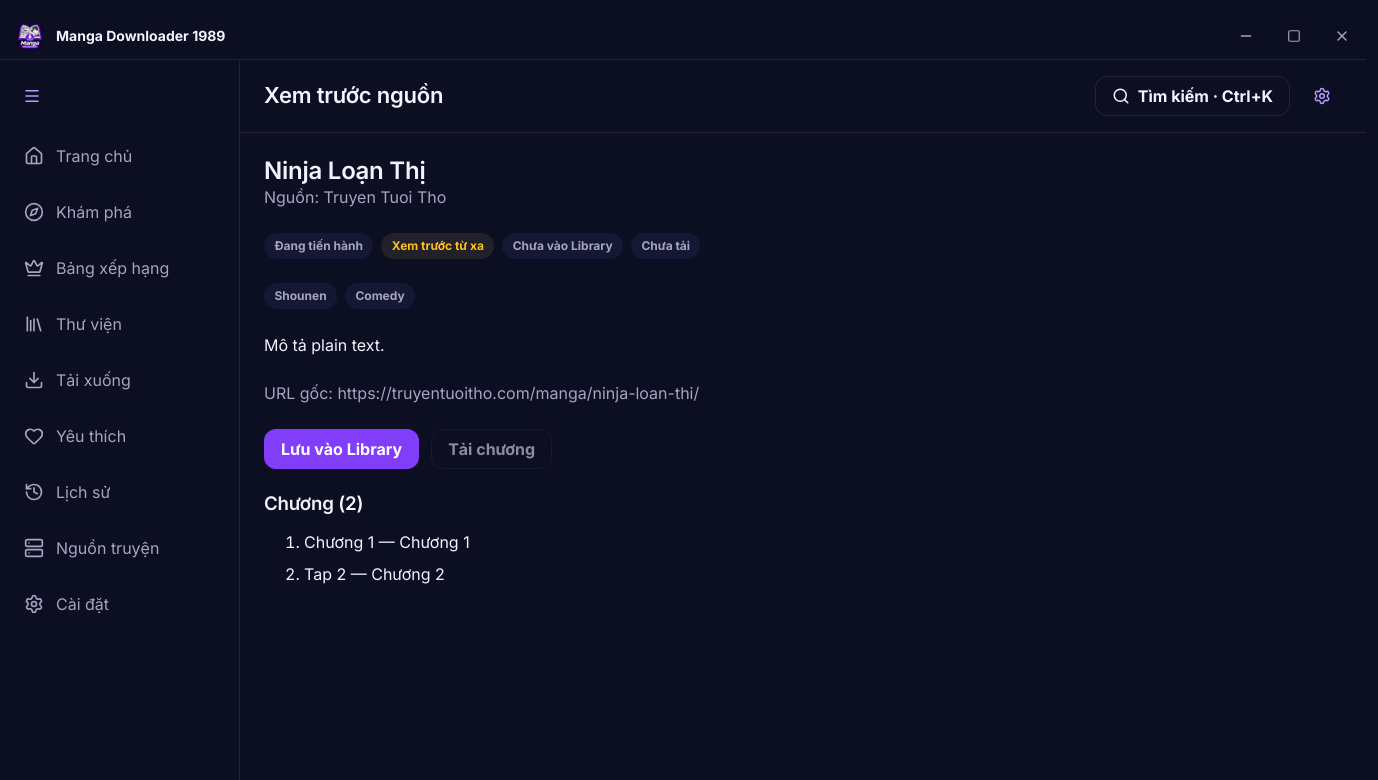
Scenario: T05 remote preview and explicit save › saves metadata only once and distinguishes saved from downloaded
The image size is (1378, 780).
Expected: the heading "Ninja Loạn Thị" is shown, [264, 157, 446, 185]
Expected: the text "Xem trước từ xa" is shown, [381, 233, 494, 259]
Click the button "Lưu vào Library".
click(342, 449)  # box [264, 429, 419, 469]
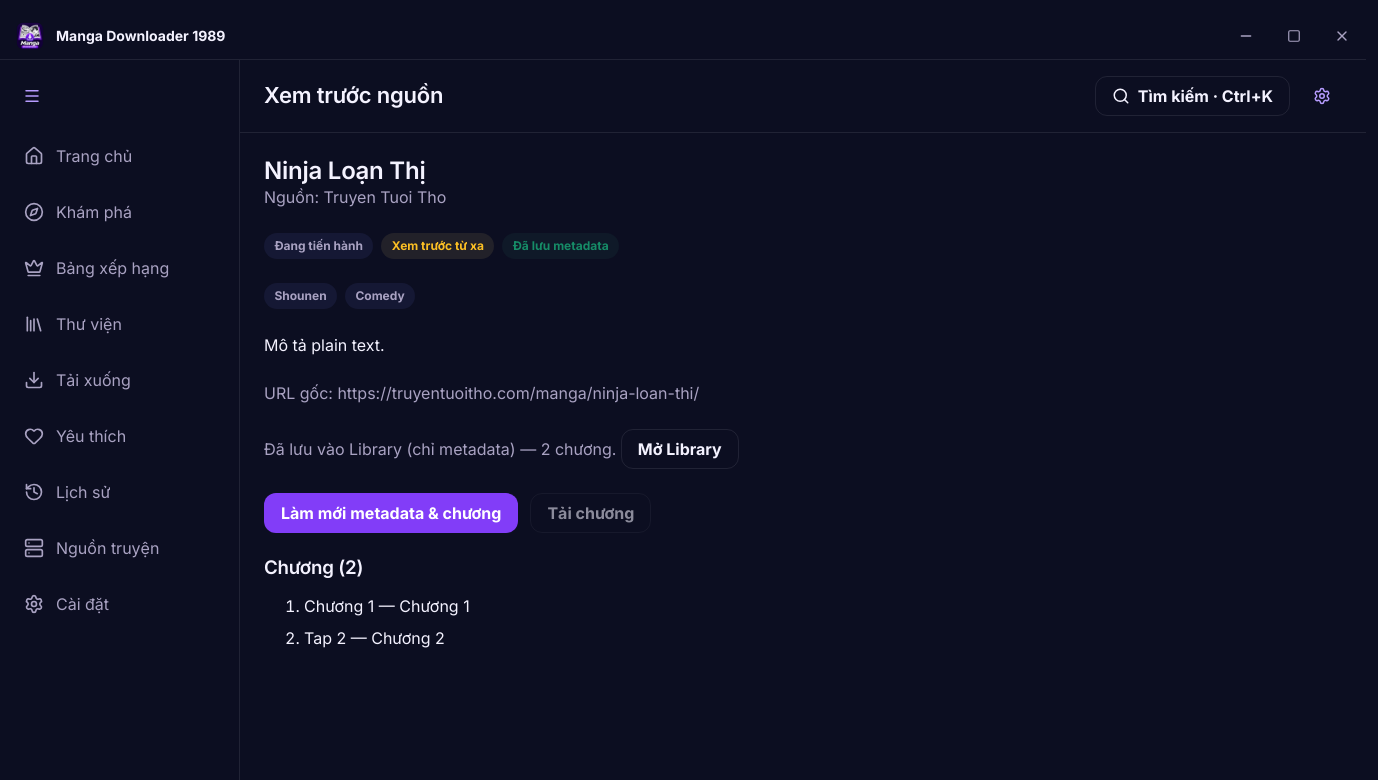
Expected: the message shows "Đã lưu vào Library (chỉ metadata) — 2 chương", [264, 439, 616, 459]
Expected: the message shows "chỉ metadata", [264, 439, 616, 459]
Expected: the text "Đã lưu metadata" is shown, [502, 233, 619, 259]
